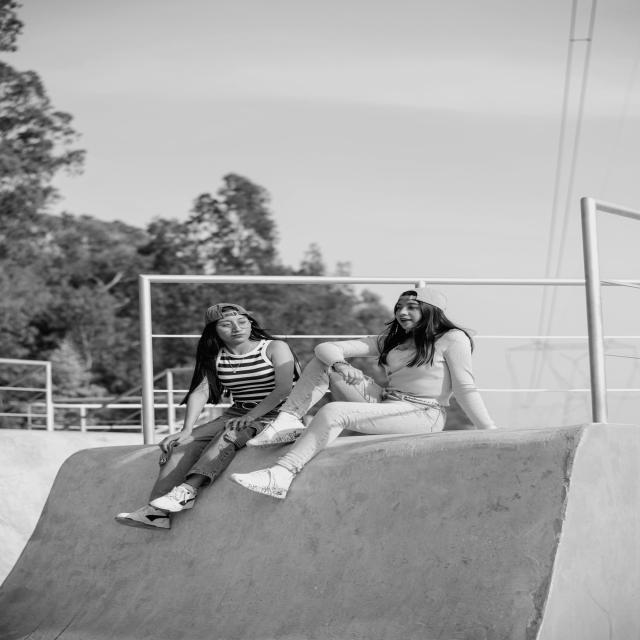sit: (252, 281, 493, 499), (121, 300, 301, 539)
